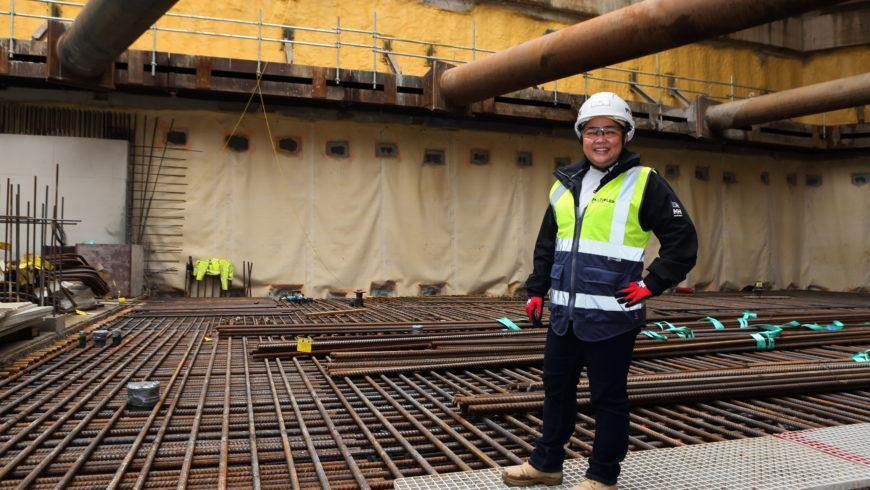helmet: (561, 88, 645, 139)
person: (521, 91, 679, 490)
vest: (535, 164, 660, 341)
